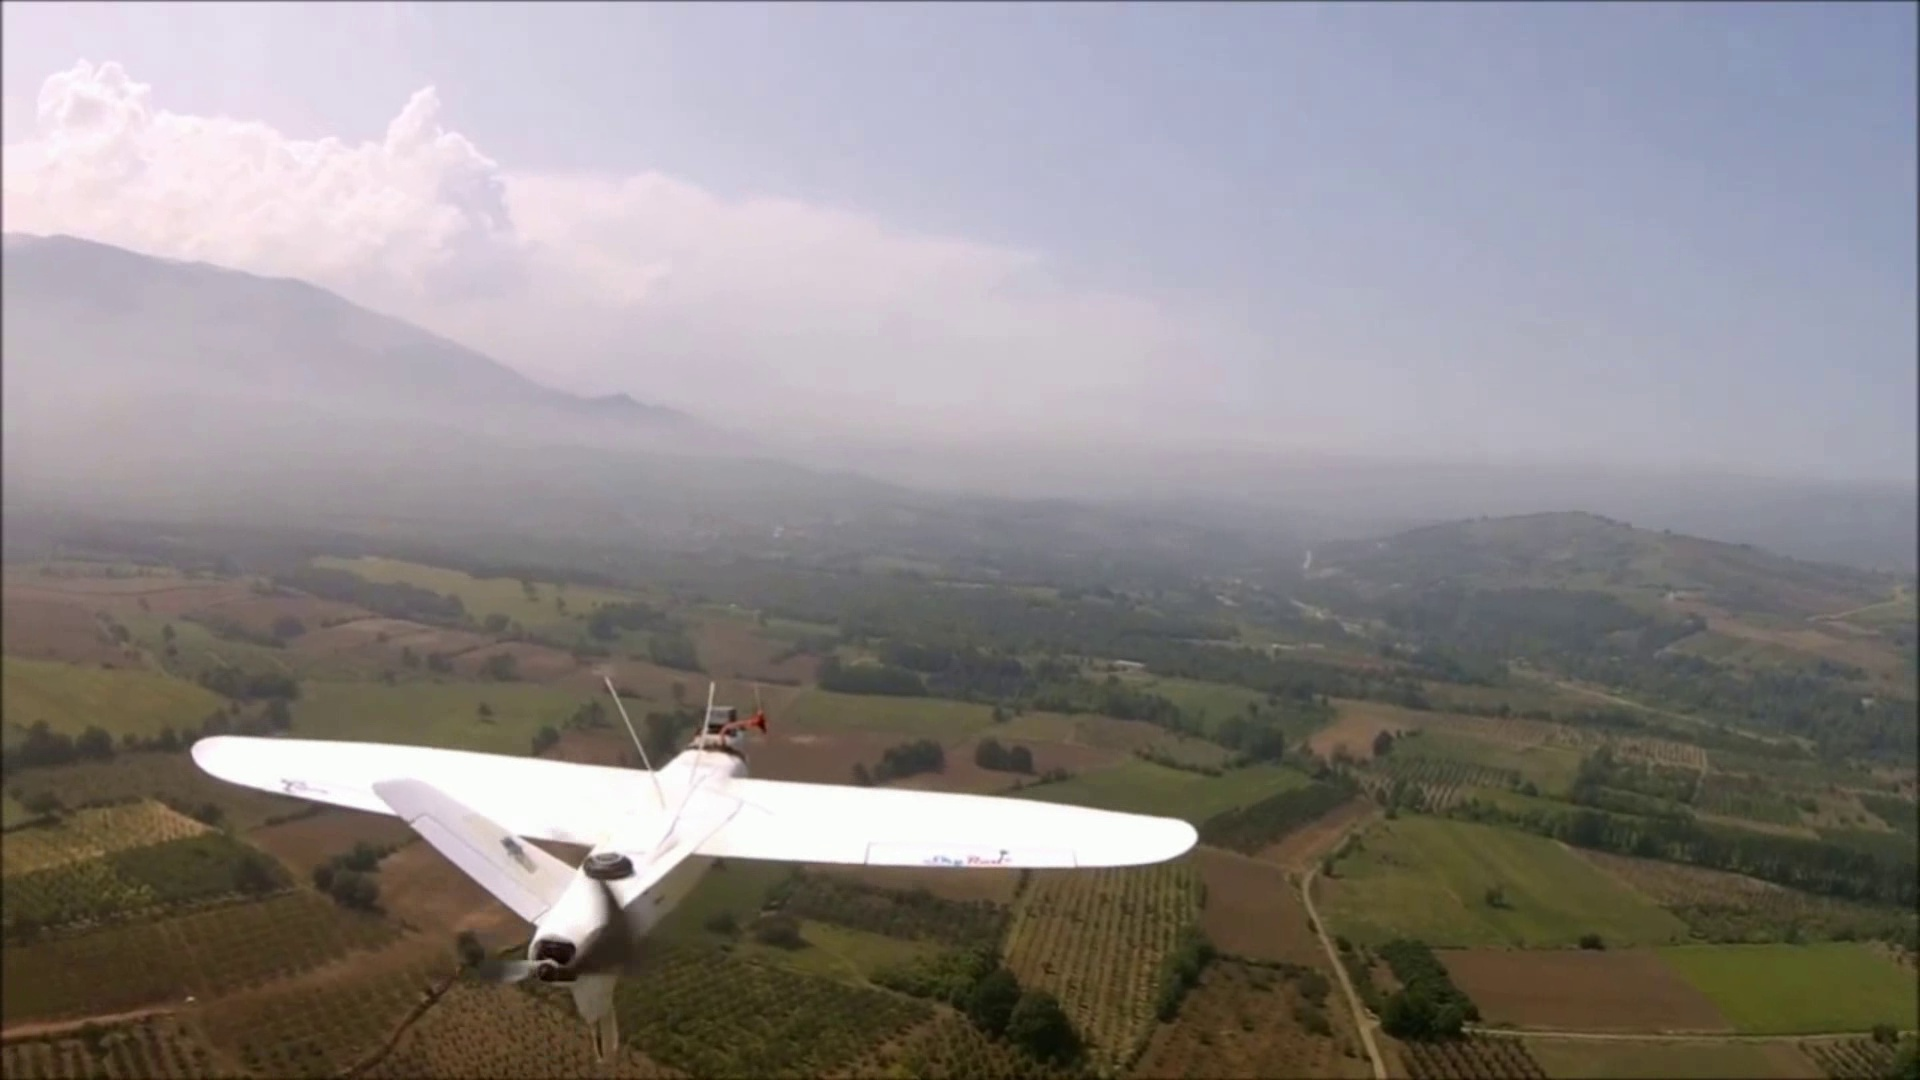airplane: (194, 680, 1204, 1044)
